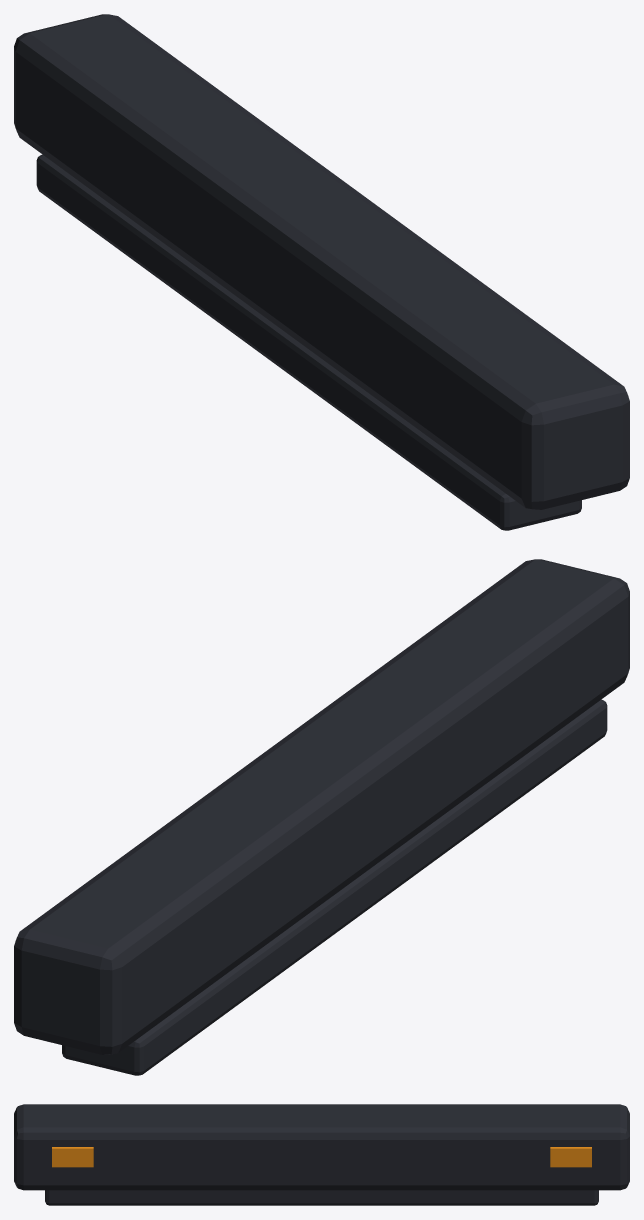
Rendered from bumper_f.obj.
3 renders of one model, top to bottom at view 1: azimuth 30°, elevation 25°; view 2: azimuth 150°, elevation 25°; view 3: azimuth 270°, elevation 25°, orthographic. The views are drawn at different scales.
Parts seen in each view (by area): view 1: Cube; view 2: Cube; view 3: Cube.
Part boxes in pixels (left/top/right/bottom): Cube: left=14, top=14, right=629, bottom=530; Cube: left=14, top=559, right=629, bottom=1075; Cube: left=14, top=1104, right=629, bottom=1205.
Size of the model in its own units: 0.22 by 0.265 by 1.78.
